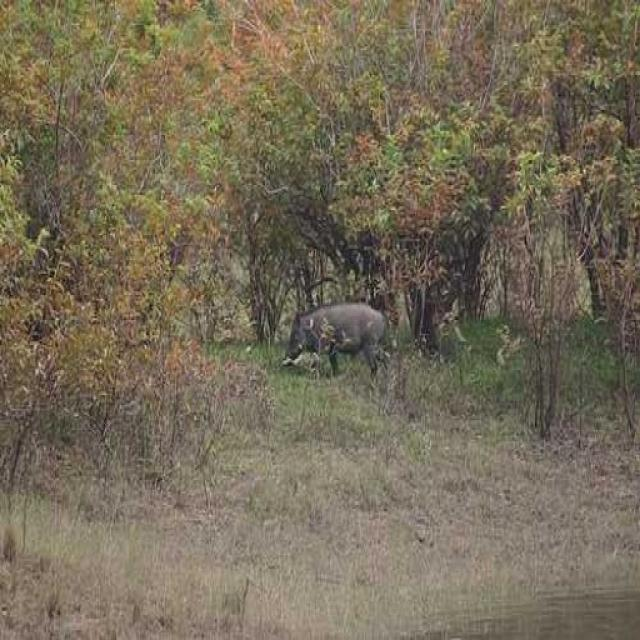pig: (267, 266, 463, 408)
